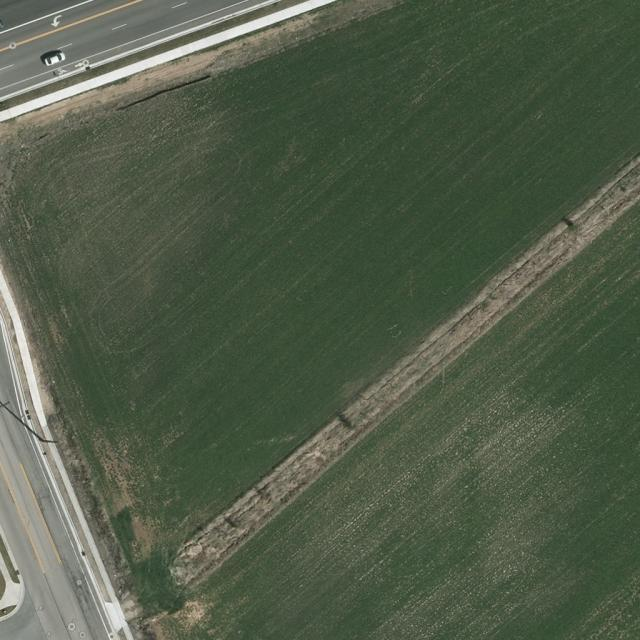vehicle: (42, 52, 66, 67)
